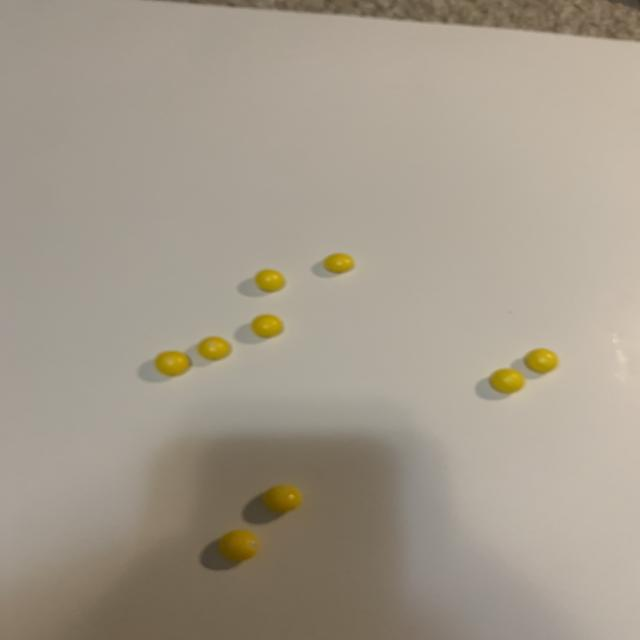smartie: (218, 531, 258, 562), (261, 485, 302, 514), (489, 368, 526, 395), (523, 349, 559, 374), (155, 351, 189, 377), (251, 315, 283, 338), (254, 270, 285, 292), (198, 337, 229, 359), (323, 253, 354, 274)
